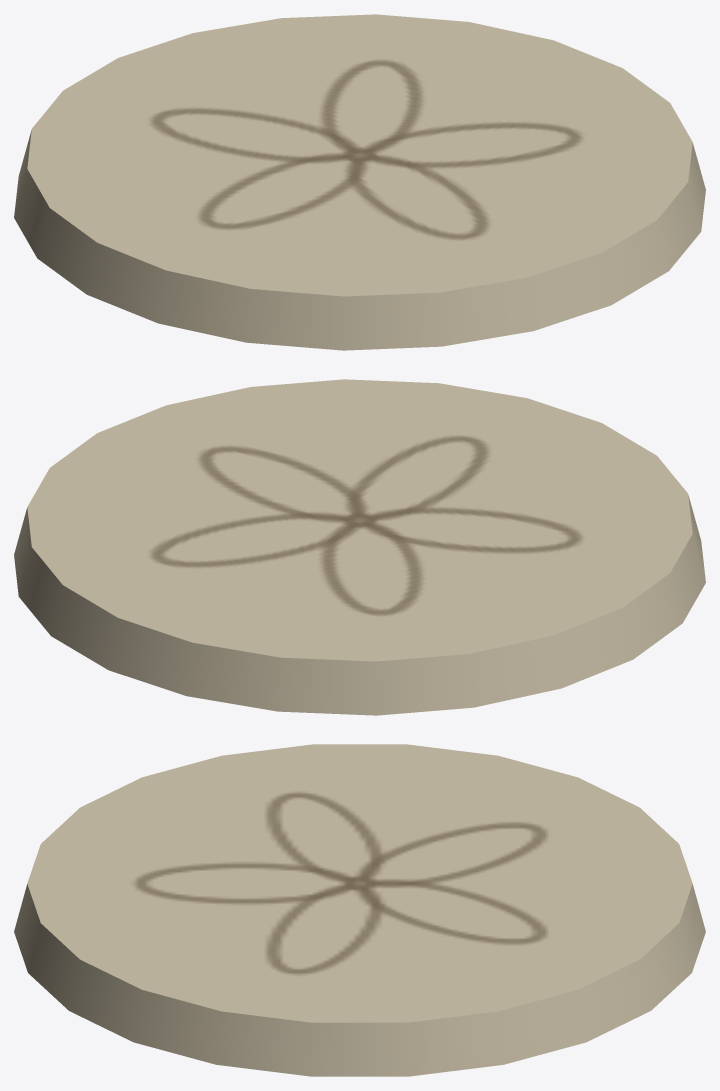
The model's file is sand-dollar.glb.
3 renders of one model, top to bottom at view 1: azimuth 30°, elevation 25°; view 2: azimuth 150°, elevation 25°; view 3: azimuth 270°, elevation 25°, orthographic.
Parts seen in each view (by area): view 1: sand-dollar; view 2: sand-dollar; view 3: sand-dollar.
Boxes of the visible parts, x1,y1,x2,y2 form: sand-dollar: (14,14,705,350); sand-dollar: (14,379,705,715); sand-dollar: (14,744,705,1076).
Size of the model in its own units: 0.3603 by 0.028 by 0.364.
1 material, 1 textured.
